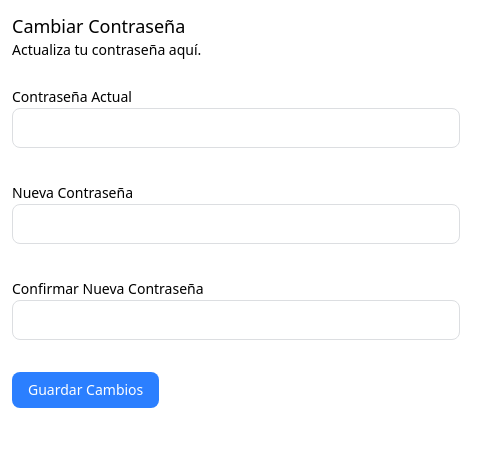
ChangePassword › should show validation error when new passwords do not match
Step 1. Type "oldPassword123" into the password field labelled "Contraseña Actual" → (236, 128), box x1=12 y1=108 x2=460 y2=148
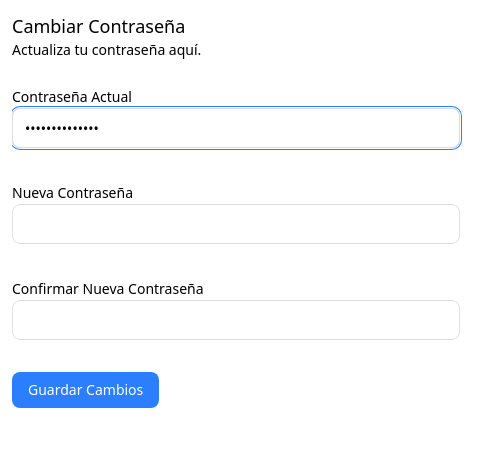
Step 2. Type "newPassword123" into the password field labelled "Nueva Contraseña" → (236, 224), box x1=12 y1=204 x2=460 y2=244
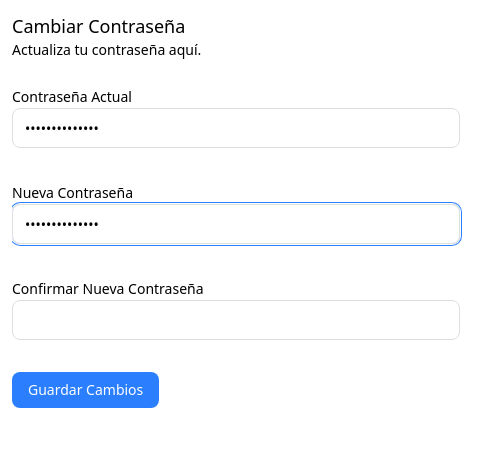
Step 3. Type "mismatch" into the password field labelled "Confirmar Nueva Contraseña" → (236, 320), box x1=12 y1=300 x2=460 y2=340
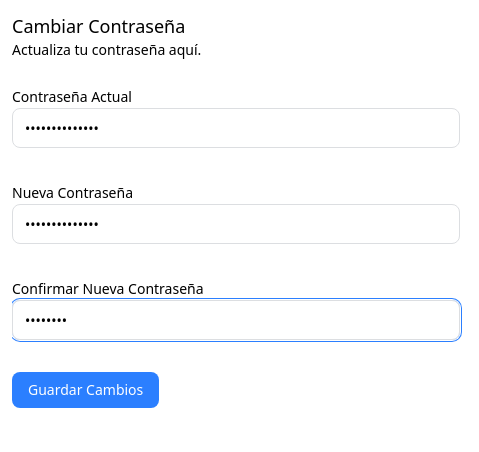
Step 4. Click the button "Guardar Cambios" → (86, 390), box x1=12 y1=372 x2=159 y2=408
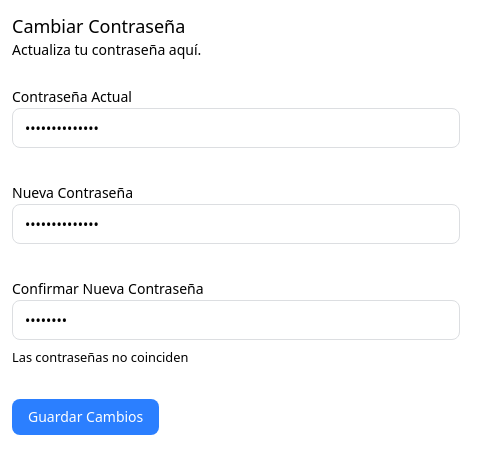
Check: the button "Guardar Cambios" is enabled, box x1=12 y1=399 x2=159 y2=435
Check: the text "Las contraseñas no coinciden" is shown, box x1=12 y1=348 x2=188 y2=366
